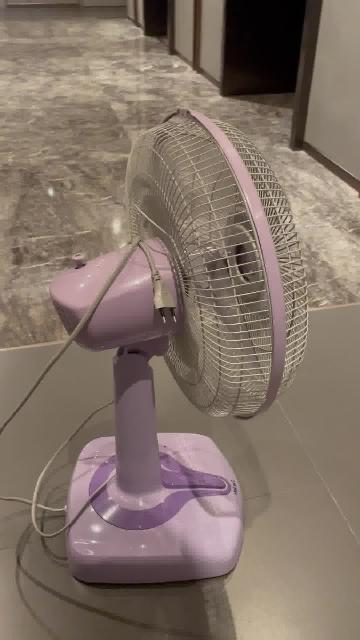Fan: (50, 109, 309, 587)
